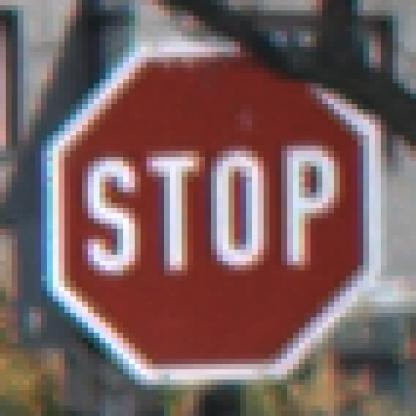stop: (38, 44, 389, 384)
